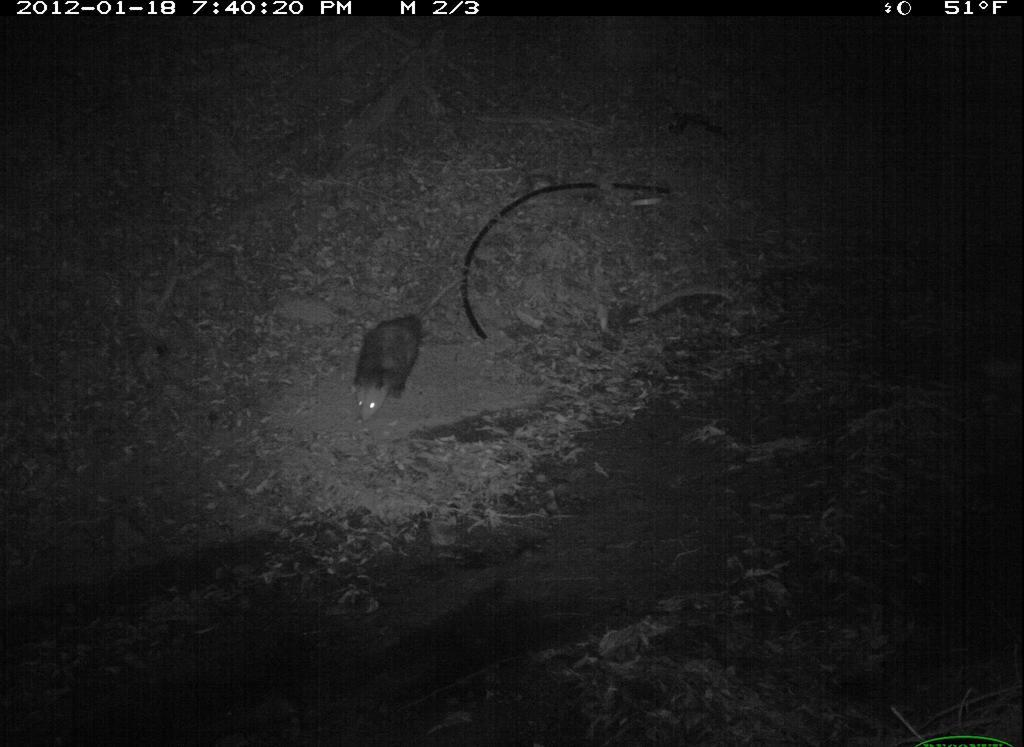opossum: (322, 304, 433, 427)
